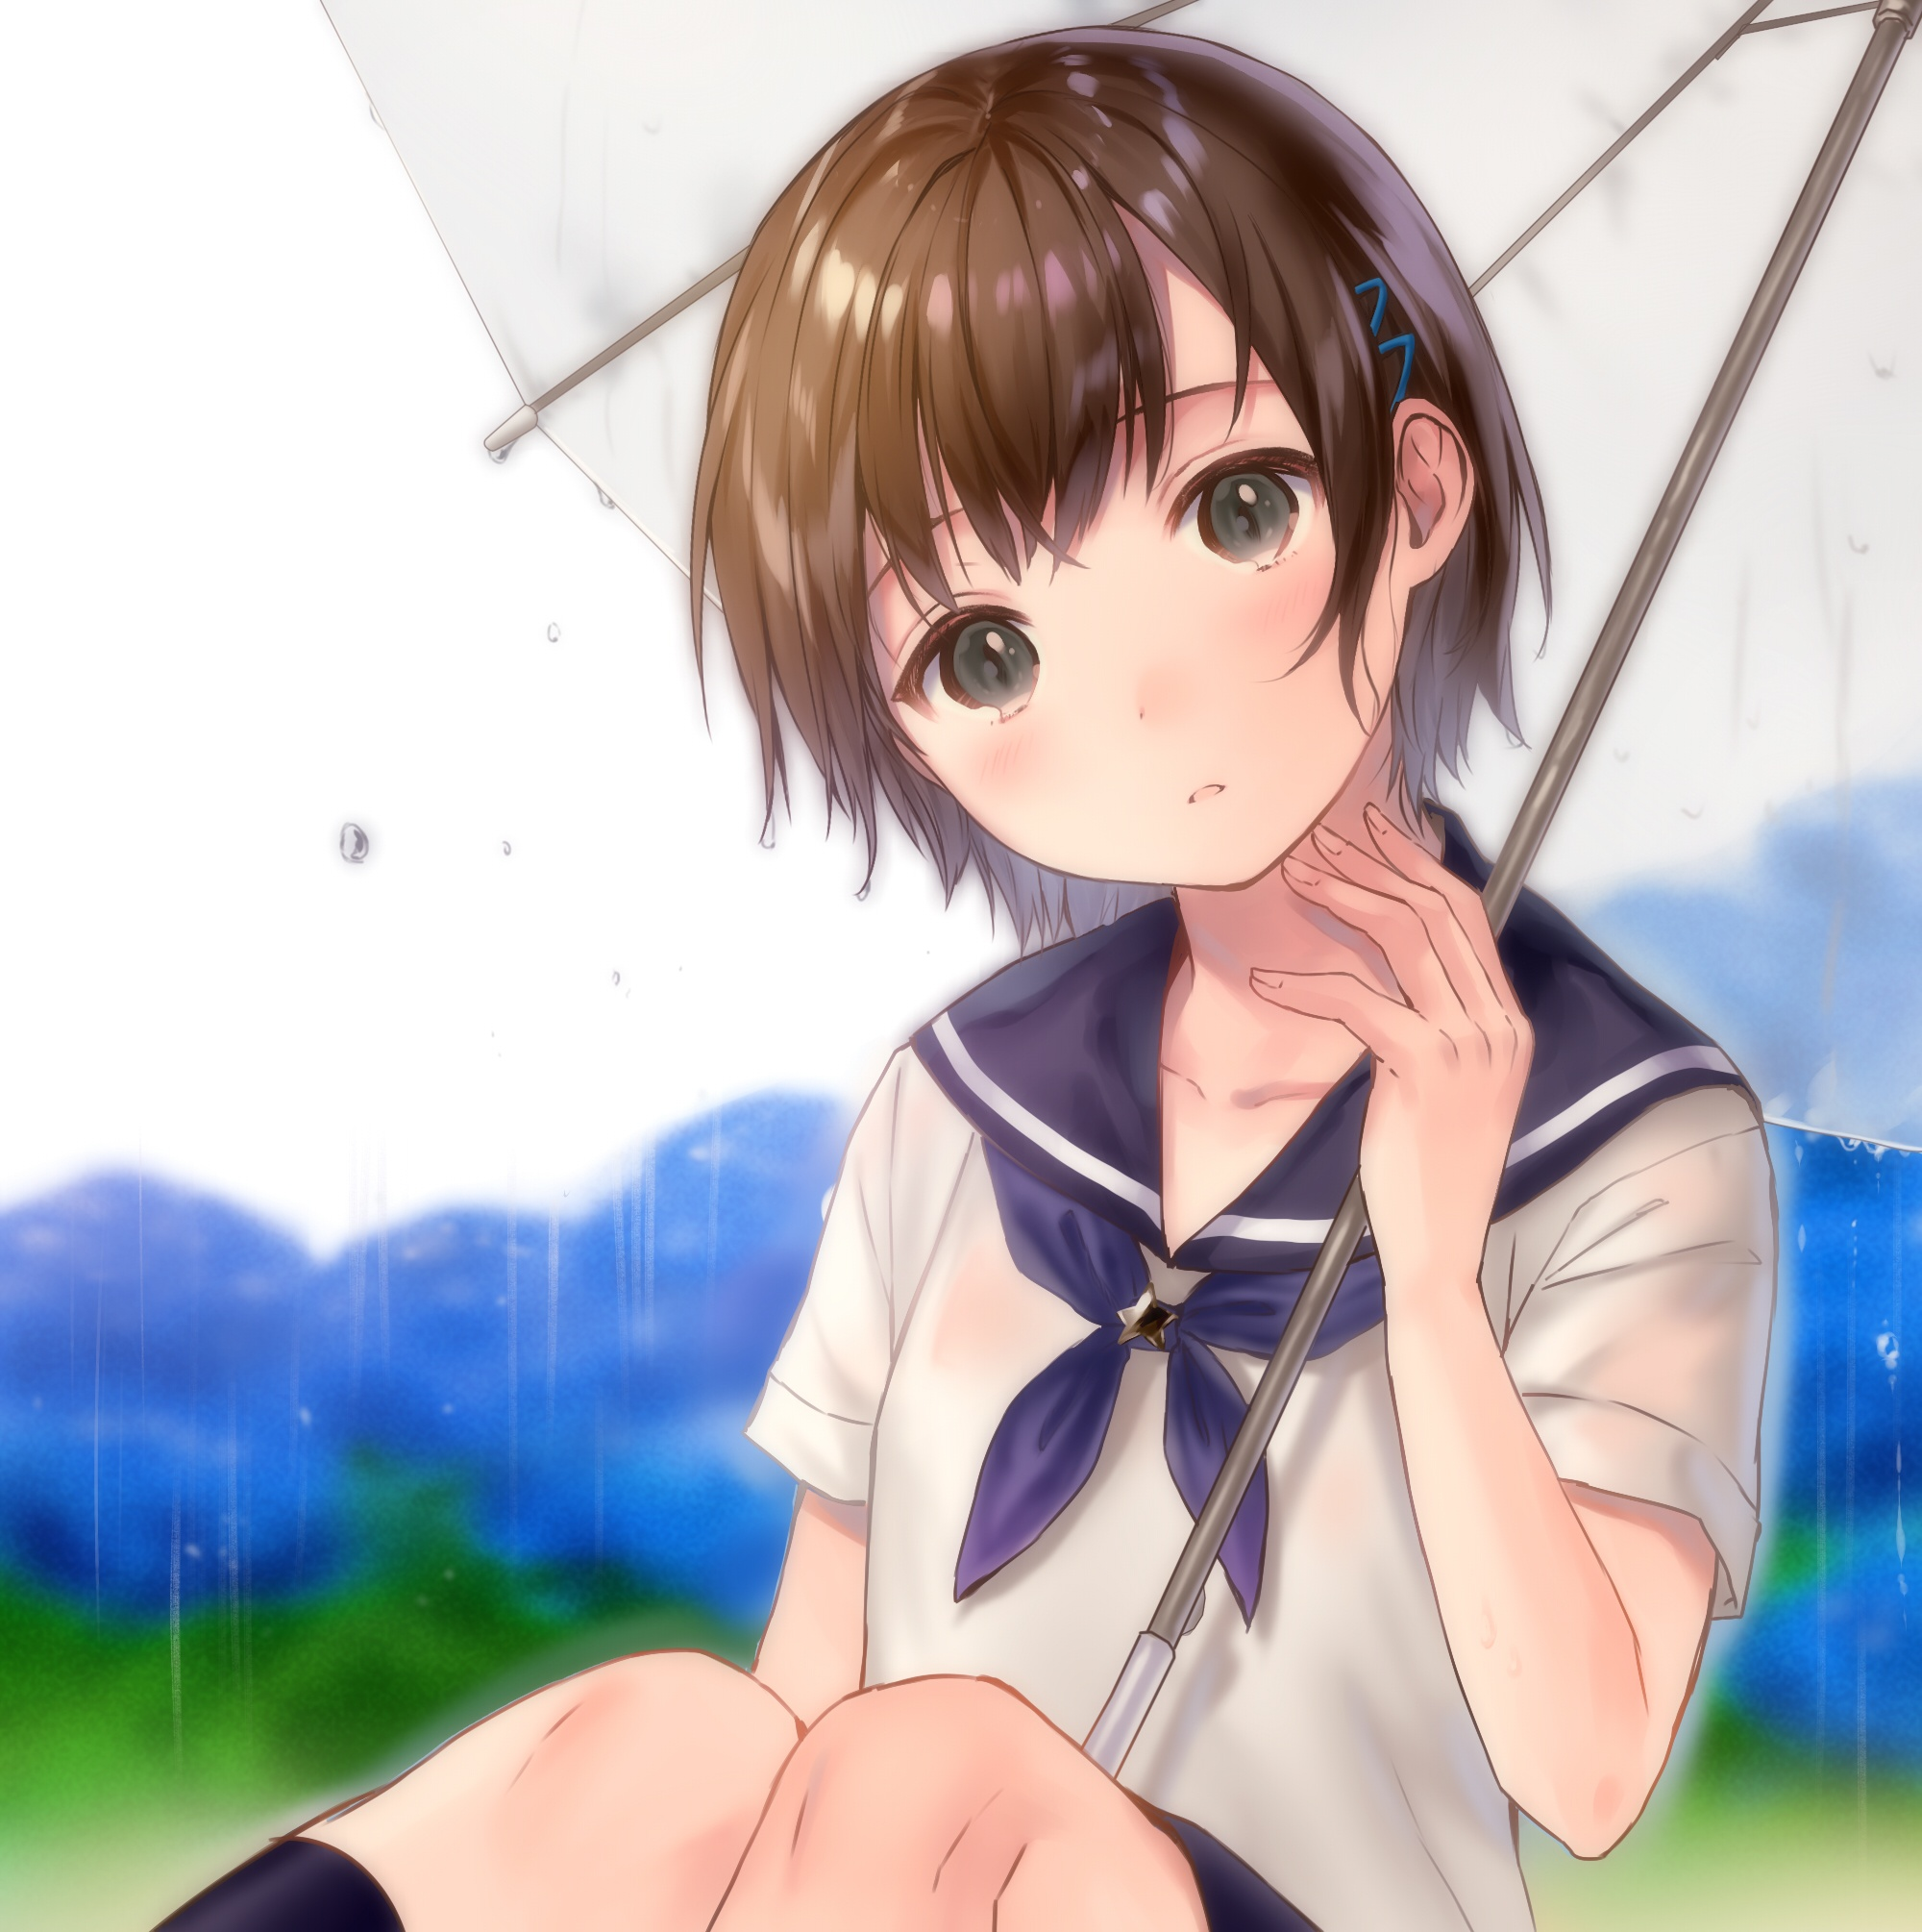纸片人正脸: (695, 27, 1537, 927)
